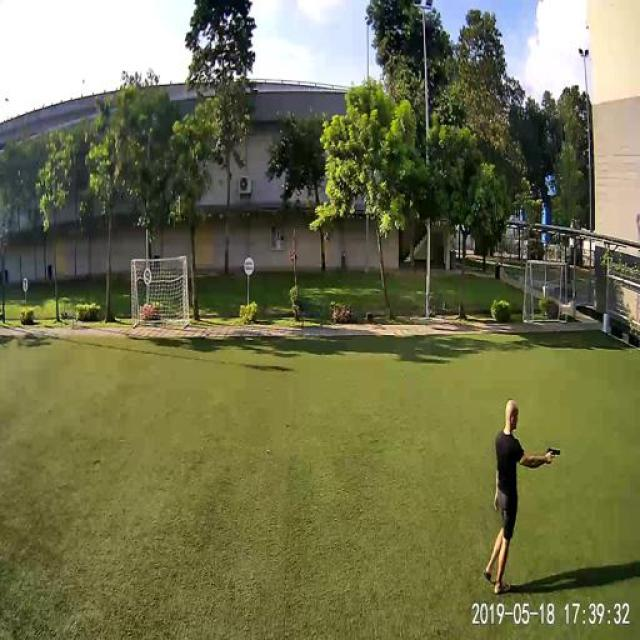Gun: (545, 440, 568, 468)
